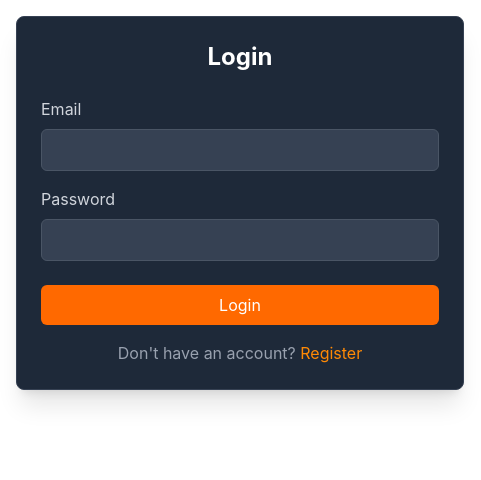
Test: LoginBox › displays validation errors for empty fields
The image size is (481, 480).
Click the button "Login". click: [240, 305]
box: [41,285,439,325]
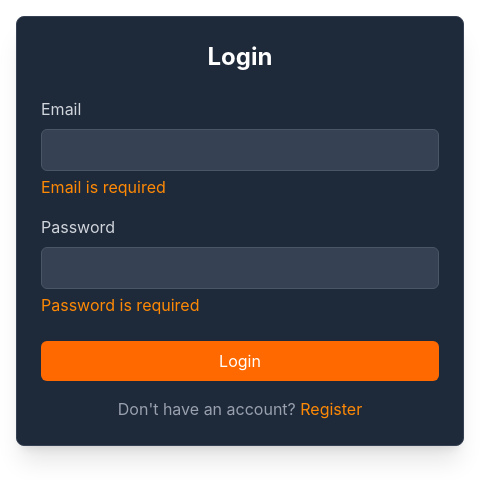
Now the text "Email is required" is shown, box [41,177,166,197]
Now the text "Password is required" is shown, box [41,295,200,315]
